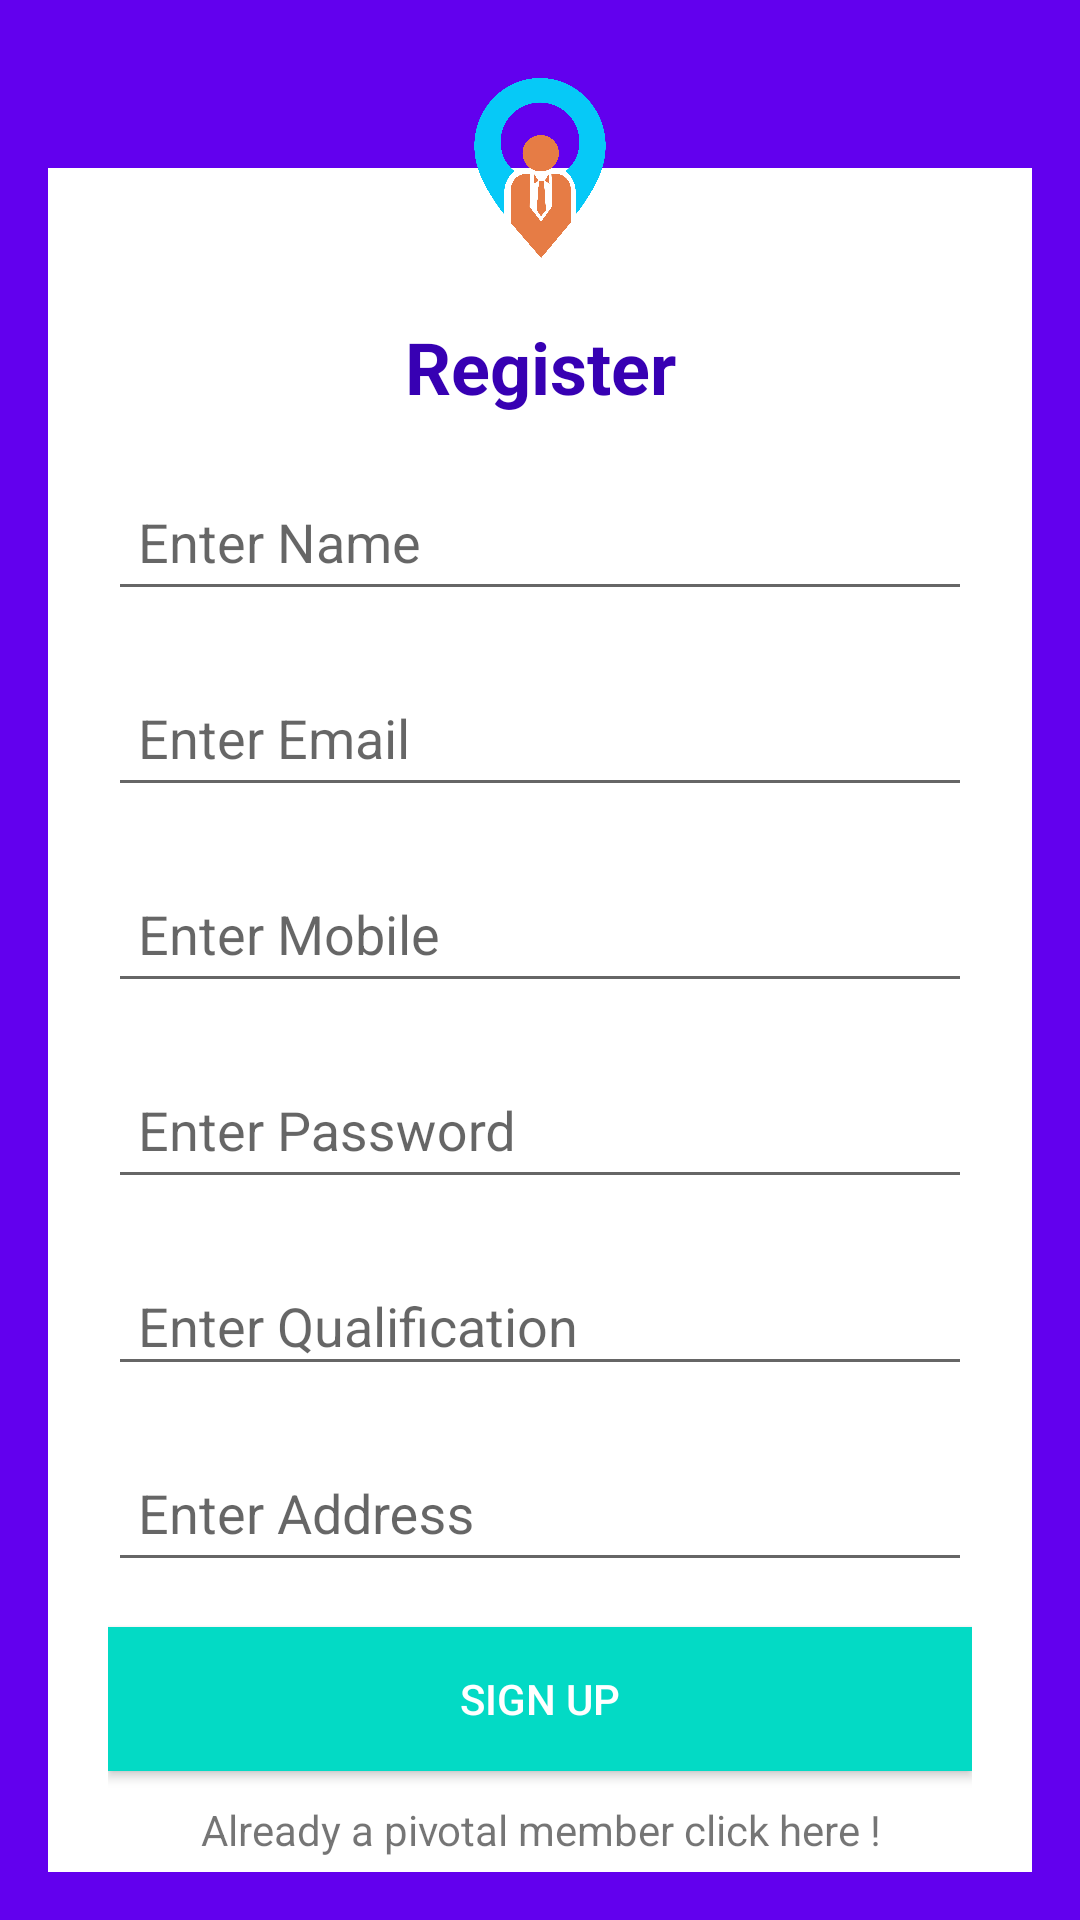

Icon click points for this 1080 × 1920 phone screenshot, format (x=x, y=y):
job suchi: (x=540, y=168)
